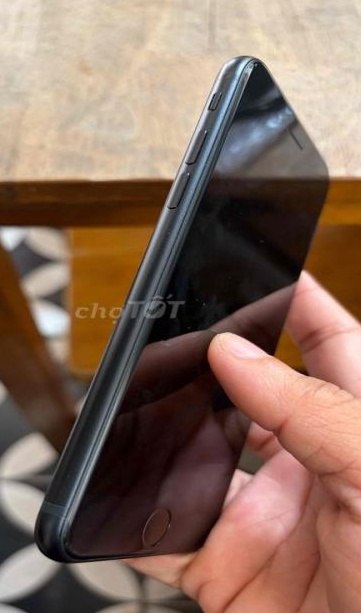scratch: (22, 52, 338, 567)
